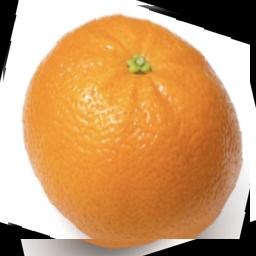Orange Fresh: (0, 0, 250, 239)
